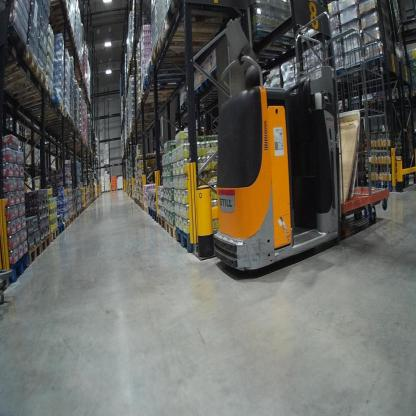pallet: (161, 1, 259, 32), (155, 19, 235, 51), (146, 40, 218, 72), (4, 50, 41, 98), (2, 68, 48, 100), (140, 73, 194, 93), (139, 84, 183, 105), (19, 84, 55, 109), (147, 60, 194, 79), (7, 251, 31, 288), (33, 92, 62, 117), (175, 226, 191, 263), (368, 53, 391, 78), (46, 11, 71, 34), (369, 176, 394, 198), (346, 58, 368, 80), (41, 104, 67, 121), (57, 27, 78, 43), (28, 242, 41, 265), (49, 1, 69, 15), (39, 232, 50, 255), (158, 210, 167, 234), (167, 218, 177, 239), (49, 225, 60, 241), (56, 223, 65, 237), (152, 208, 158, 226), (62, 218, 70, 229), (148, 205, 153, 219), (144, 202, 149, 215), (140, 199, 145, 212), (68, 213, 74, 223), (105, 189, 111, 194), (111, 188, 118, 192), (104, 162, 109, 167), (117, 187, 123, 191), (100, 190, 105, 193)
pallet_truck: (203, 14, 353, 295)
